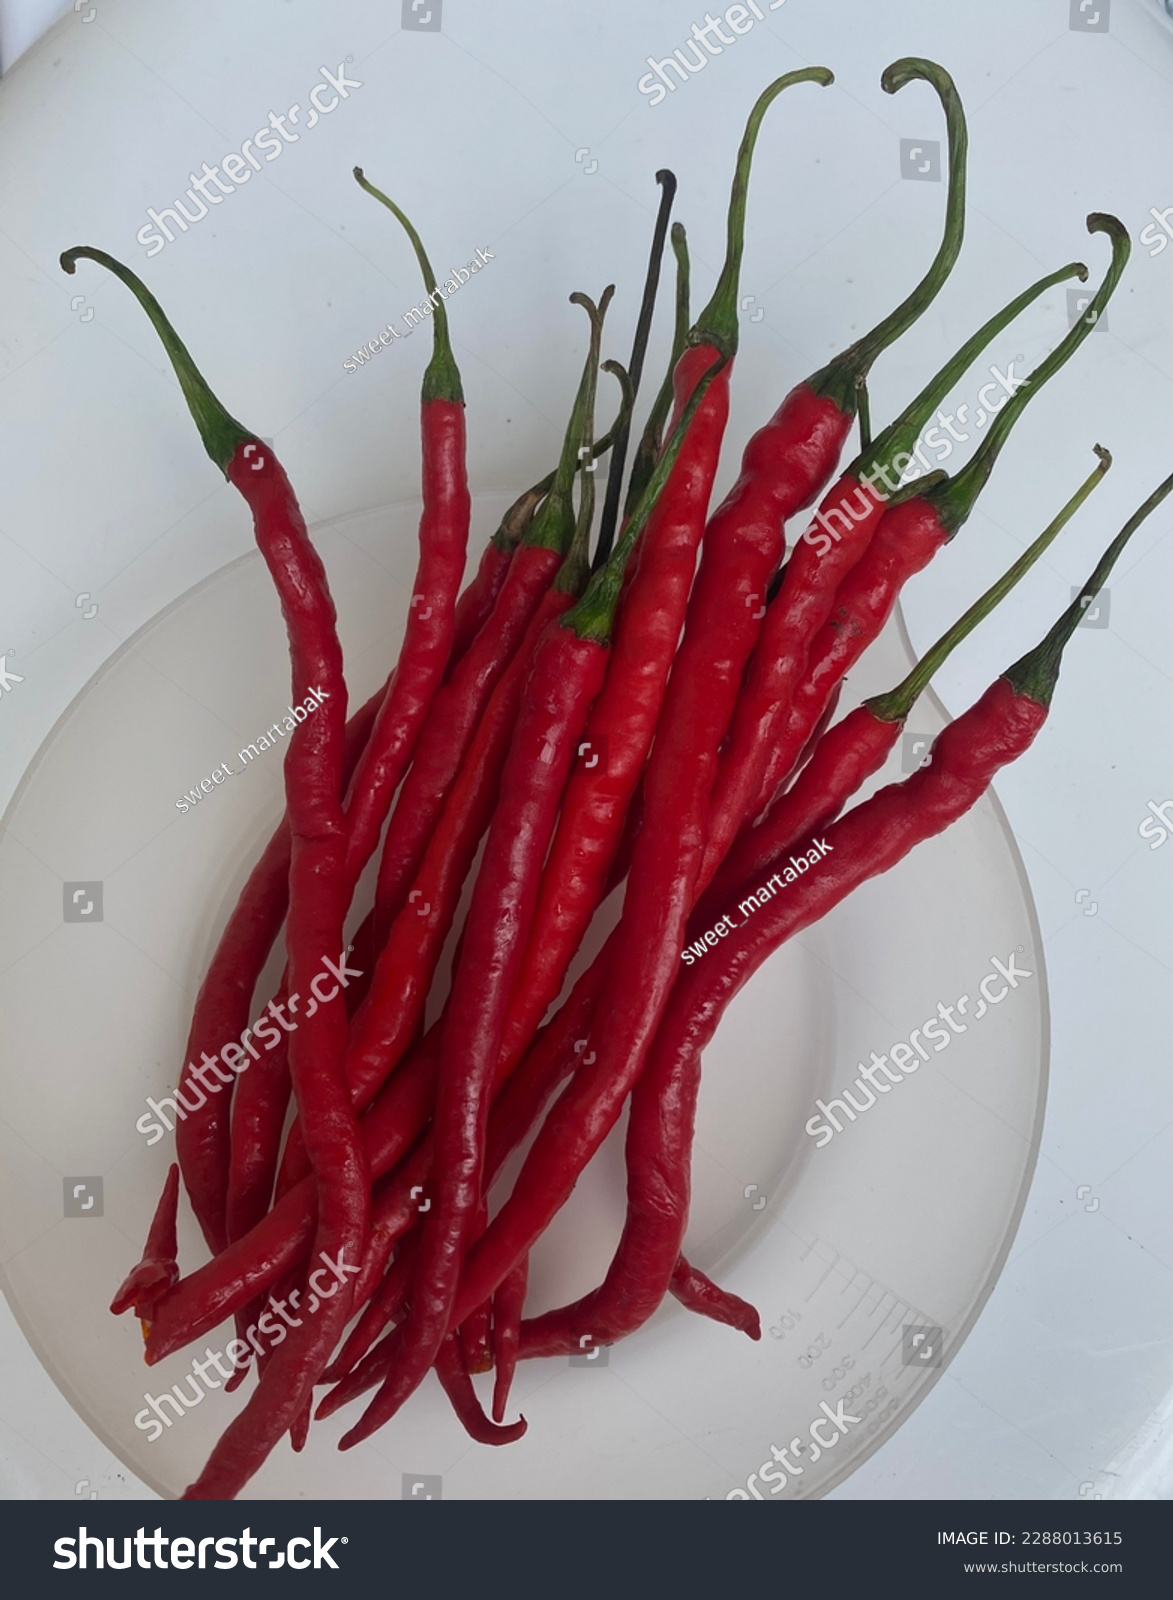Cabai: (42, 152, 1117, 1378)
